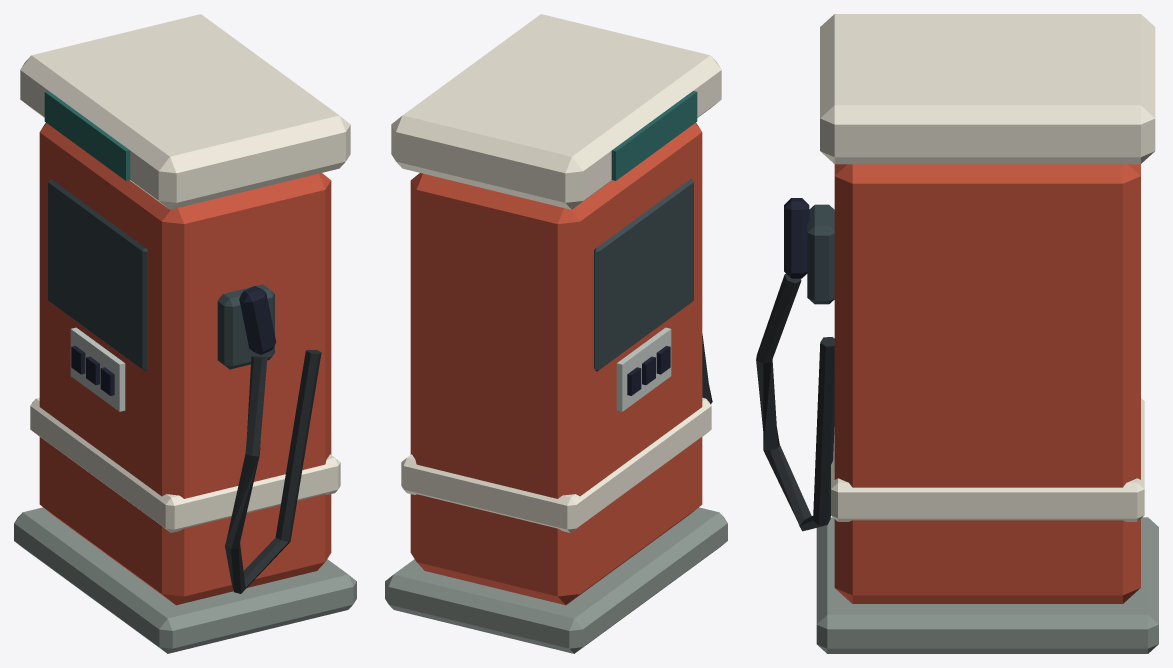
Rendered from sm_env_service_pump.glb.
The picture shows the model from 3 angles, left to right: view 1: azimuth 30°, elevation 25°; view 2: azimuth 150°, elevation 25°; view 3: azimuth 270°, elevation 25°; orthographic projection. The views are drawn at different scales.
Parts seen in each view (by area): view 1: Body, Head, Plinth, DisplayBezel, BodyBand, Hose, HeadBrand, Holster, Keypad, Nozzle; view 2: Body, Head, Plinth, DisplayBezel, BodyBand, HeadBrand, Keypad; view 3: Body, Head, Plinth, BodyBand, Hose, Holster, Nozzle.
Boxes of the visible parts, x1,y1,x2,y2 form: Body: (39, 123, 331, 605); Head: (20, 14, 350, 209); Plinth: (14, 507, 356, 653); DisplayBezel: (48, 178, 147, 371); BodyBand: (30, 397, 340, 532); Hose: (225, 349, 321, 593); HeadBrand: (44, 91, 130, 180); Holster: (217, 284, 274, 369); Keypad: (70, 327, 125, 411); Nozzle: (239, 286, 276, 354); Body: (410, 123, 702, 605); Head: (391, 14, 721, 209); Plinth: (385, 507, 727, 653); DisplayBezel: (594, 178, 693, 371); BodyBand: (401, 397, 711, 532); HeadBrand: (611, 91, 697, 180); Keypad: (616, 327, 671, 411); Body: (834, 164, 1140, 603); Head: (820, 14, 1155, 164); Plinth: (816, 517, 1158, 653); BodyBand: (831, 398, 1144, 521); Hose: (756, 274, 834, 531); Holster: (807, 204, 834, 304); Nozzle: (784, 198, 809, 278).
Bounding box in the file's own units: 0.705 × 1.67 × 1.12.
